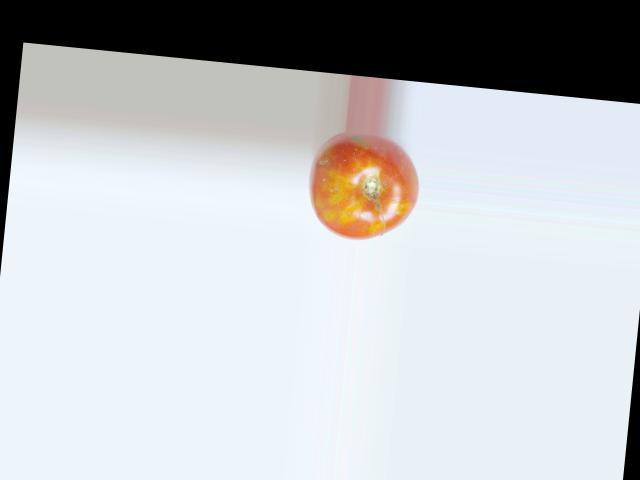tomato: (304, 128, 423, 244)
